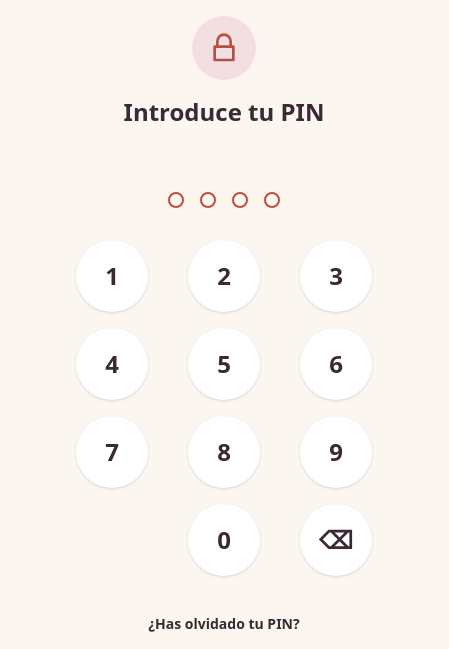
it: Pantalla de bloqueo › con un PIN incorrecto avisa, cuenta el fallo y no desbloquea
Click the button named "Dígito 1" at (112, 276), box [76,240,148,312]
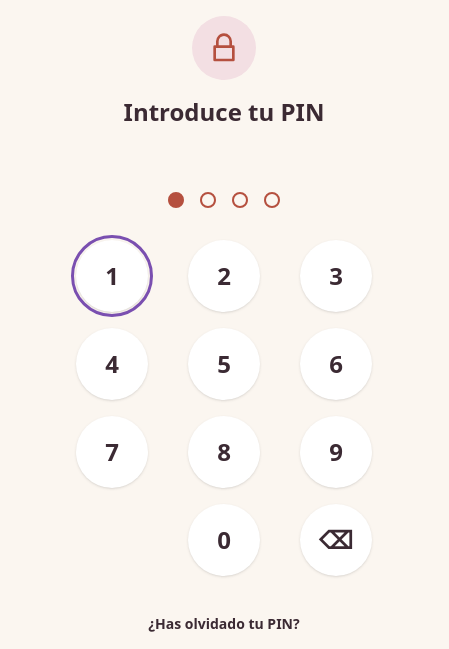
Click the button named "Dígito 1" at (112, 276), box [76,240,148,312]
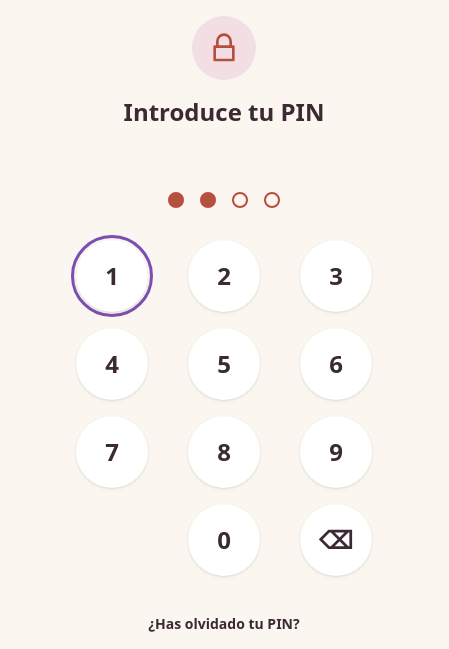
Click the button named "Dígito 1" at (112, 276), box [76,240,148,312]
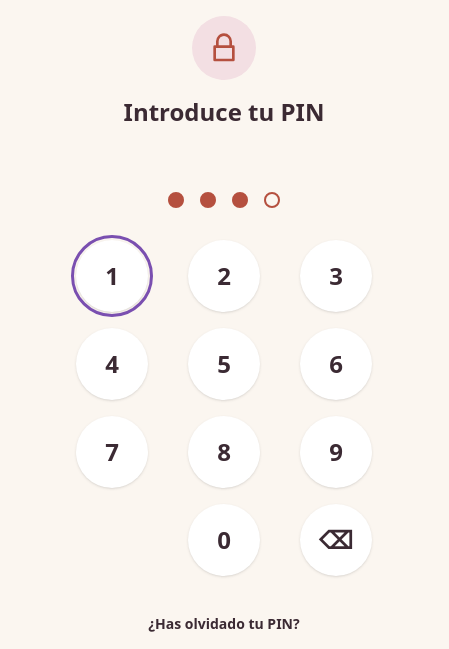
Click the button named "Dígito 1" at (112, 276), box [76,240,148,312]
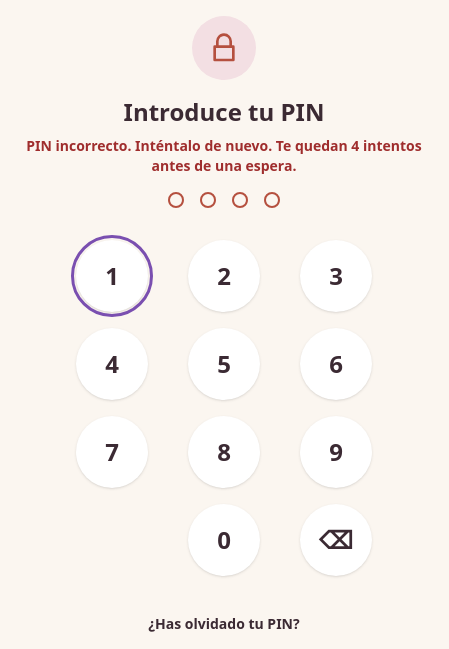
Now the message "PIN incorrecto. Inténtalo de nuevo. Te quedan 4 intentos antes de una espera." is shown, box [16,136,432,184]
